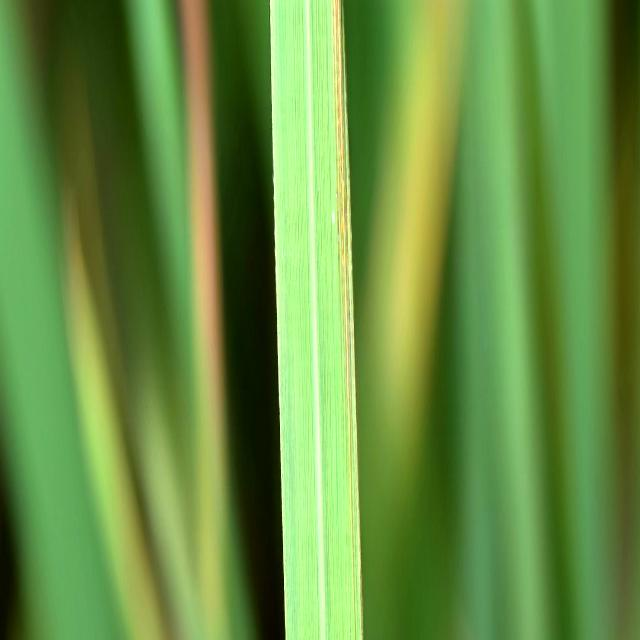BLS: (332, 0, 364, 640)
